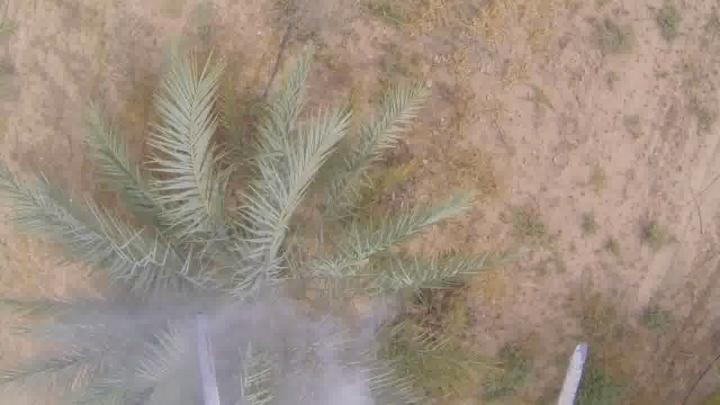Date-Palm-Crown: (108, 141, 388, 405)
